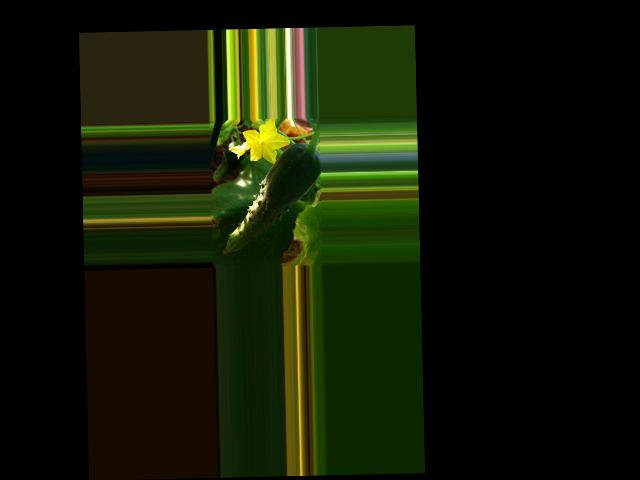cucumber: (220, 142, 322, 255)
